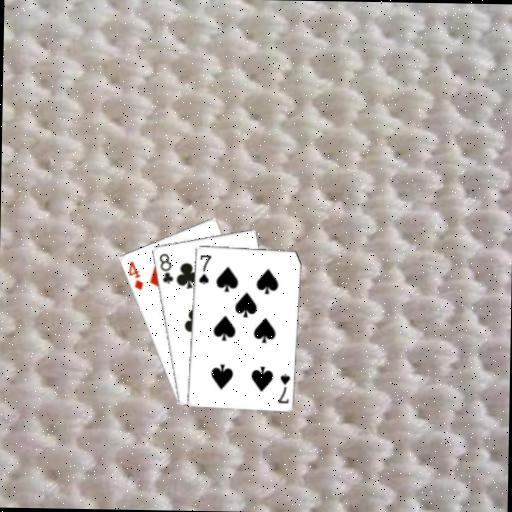4D: (124, 258, 145, 292)
7S: (195, 252, 212, 286), (274, 371, 291, 405)
8C: (156, 250, 176, 285)
